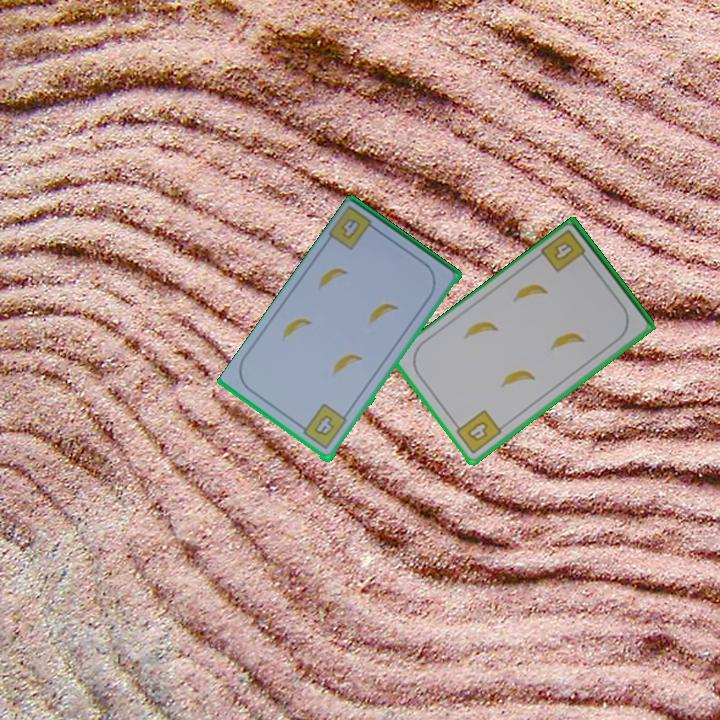4b: (326, 203, 383, 254), (296, 401, 350, 453), (450, 406, 505, 457), (538, 226, 592, 275)
